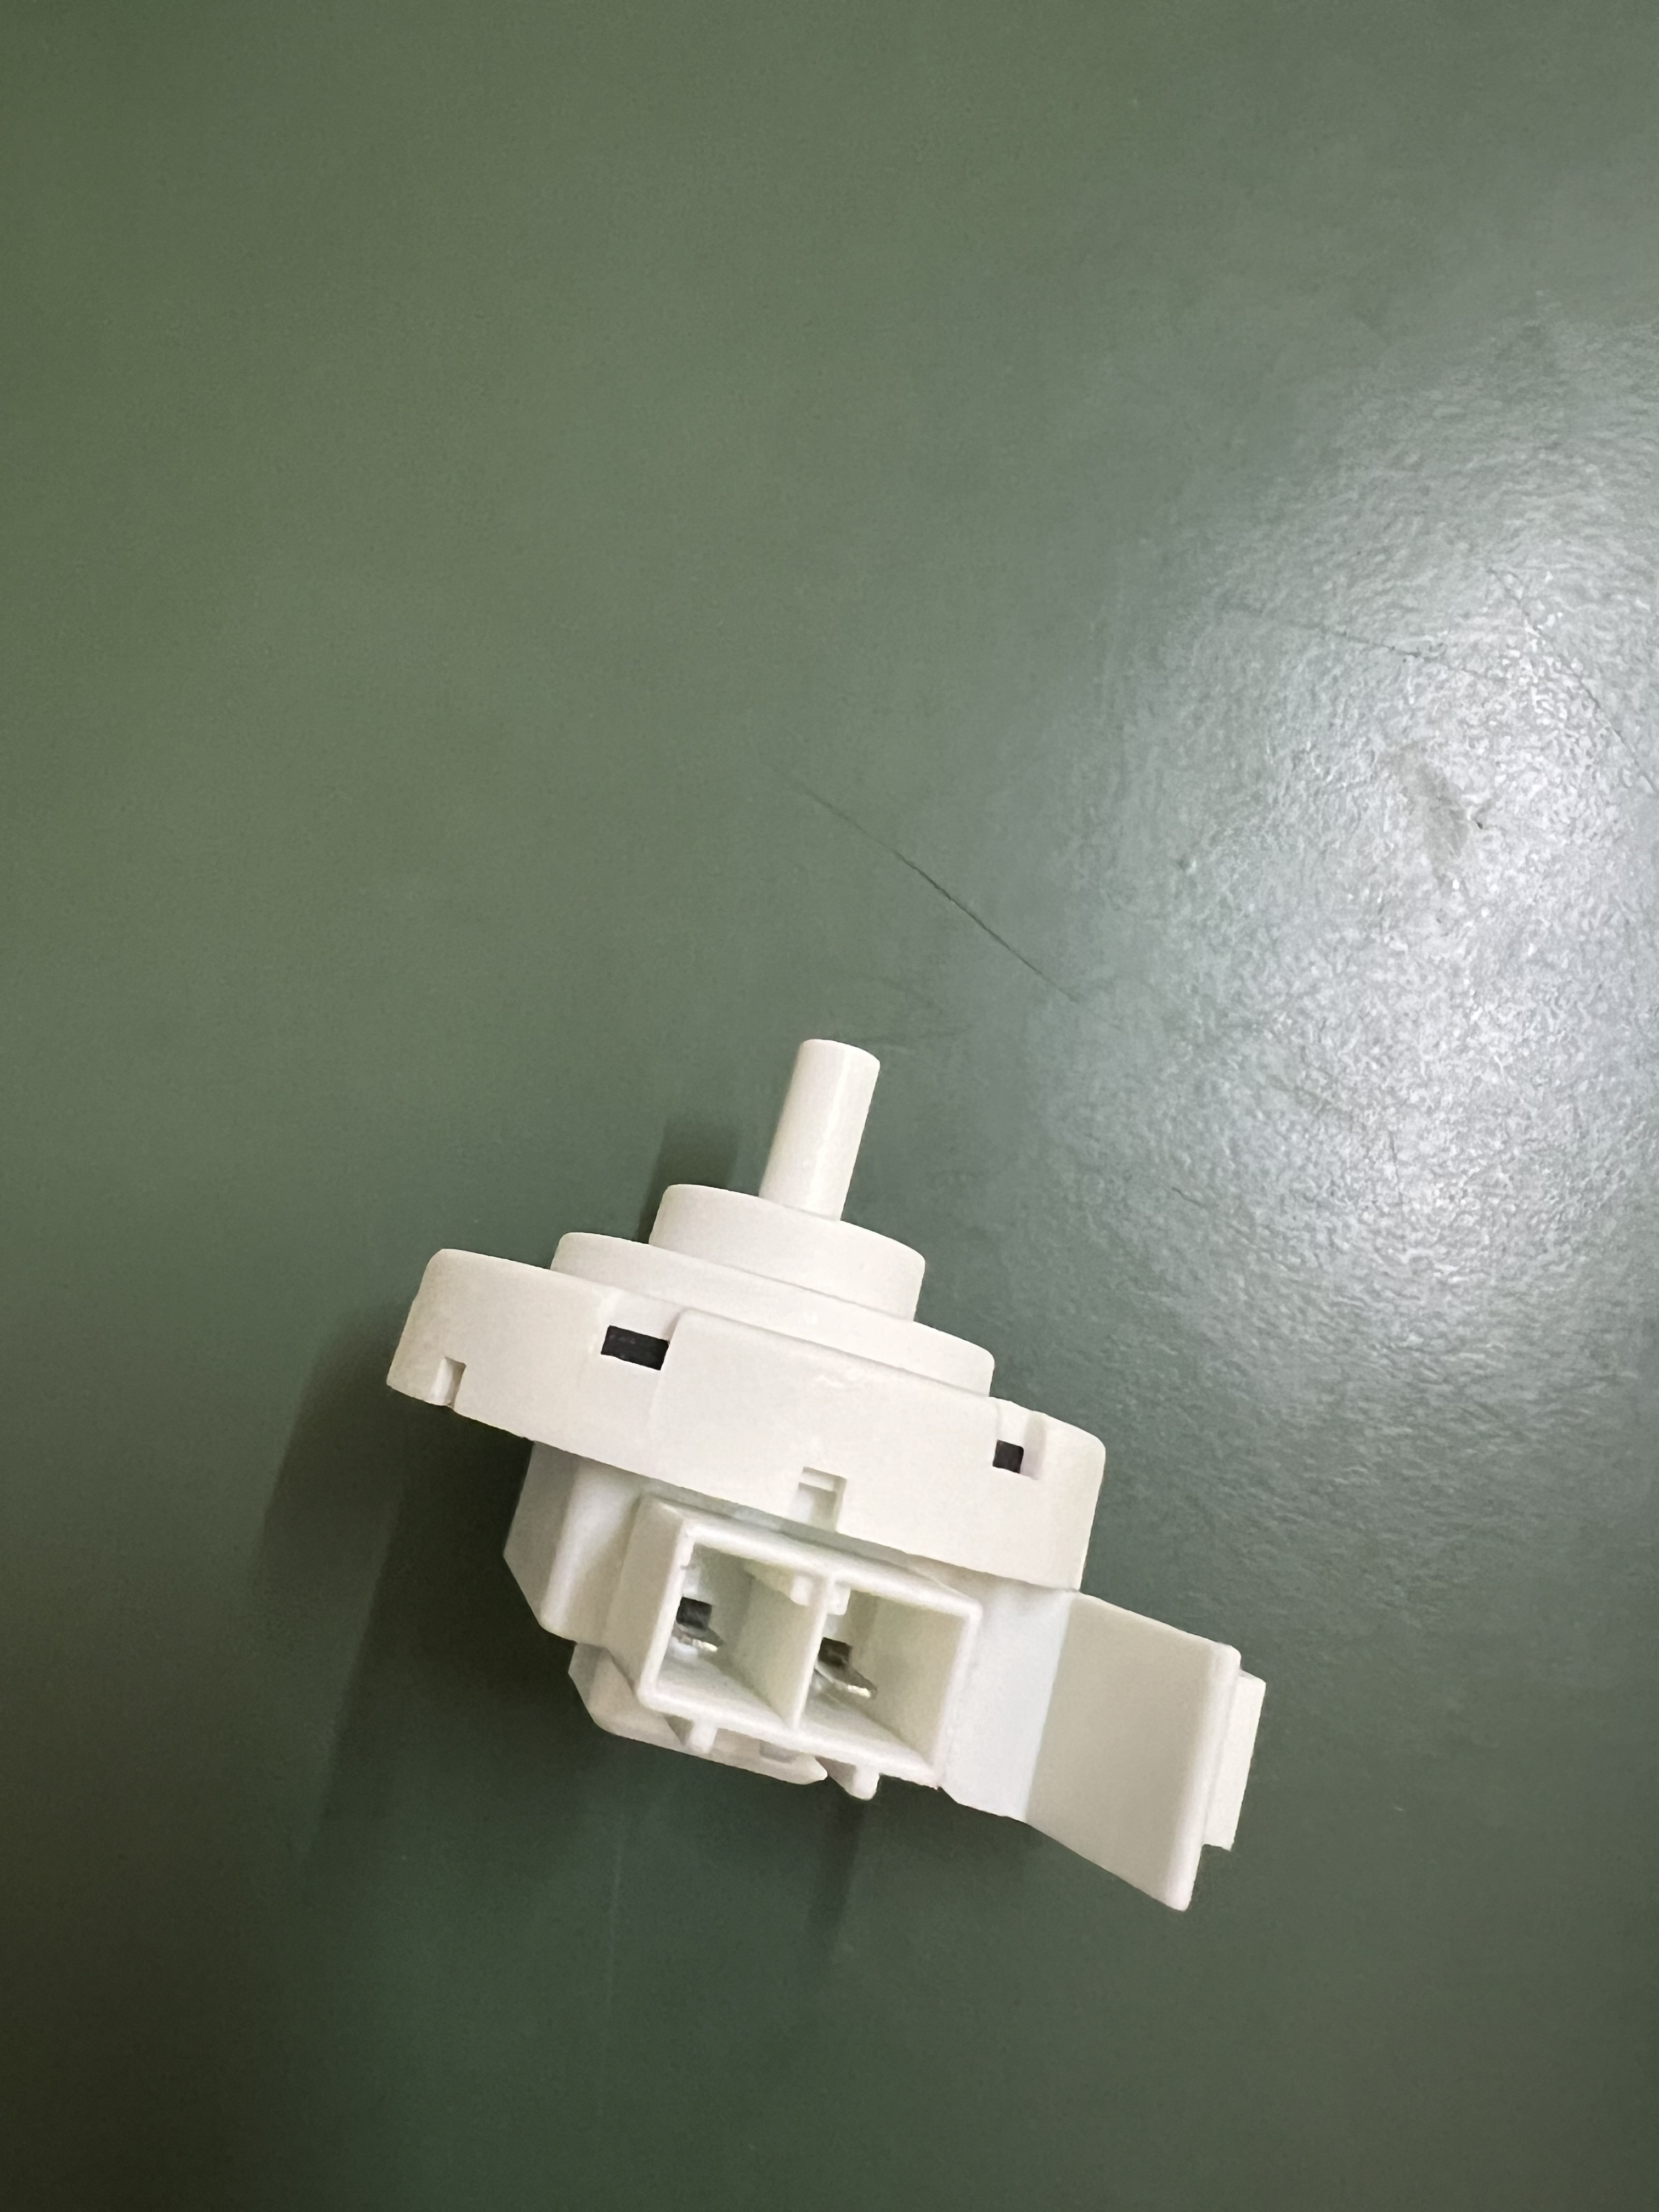pressure_switch_2: (368, 1028, 1310, 1905)
